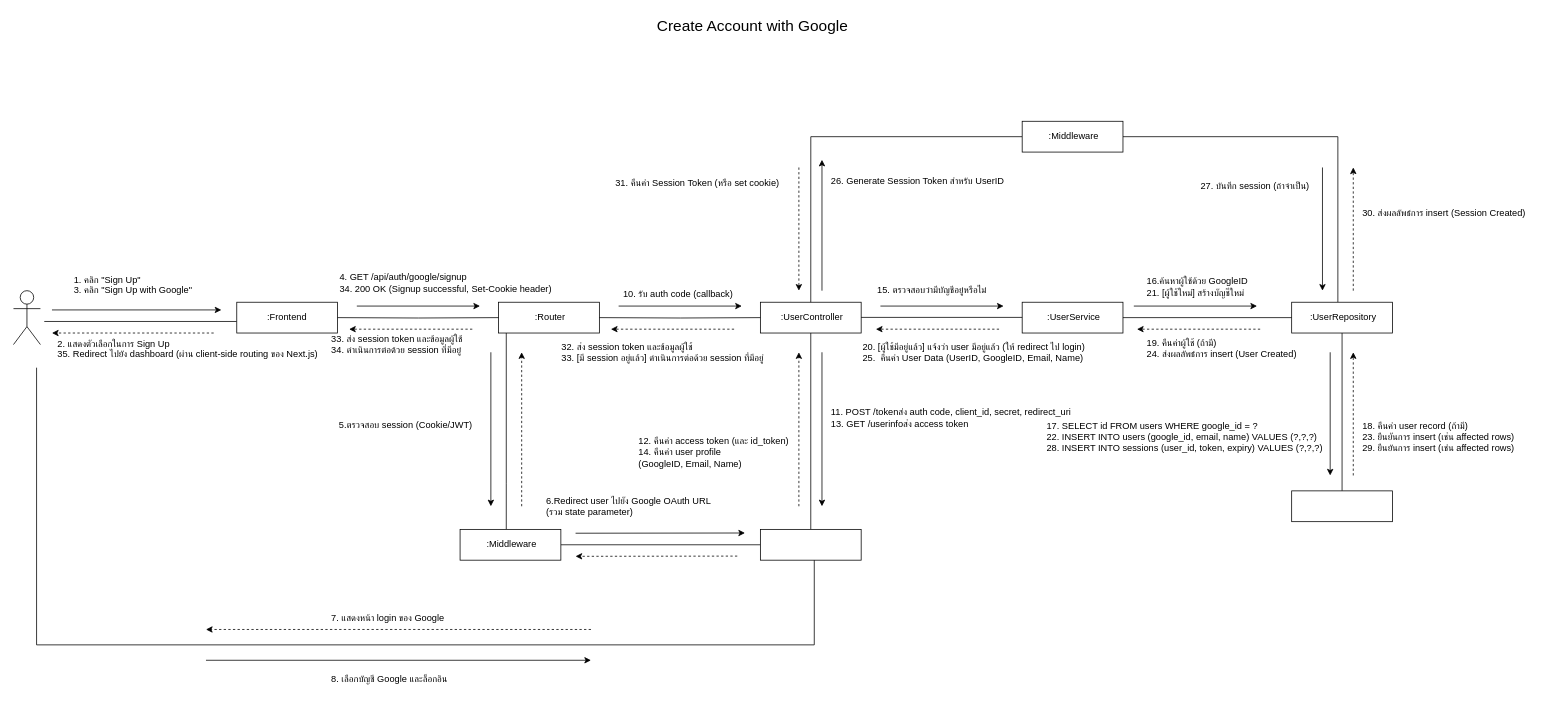
This 1567x704 diagram has some shape labels left out. Here are the shapes that lost their labels. From the top down, the centre of each, then its label:
At point 26,317: "User".
At point 1341,506: ":Database".
At point 810,544: ":GoogleOAuthClient".
